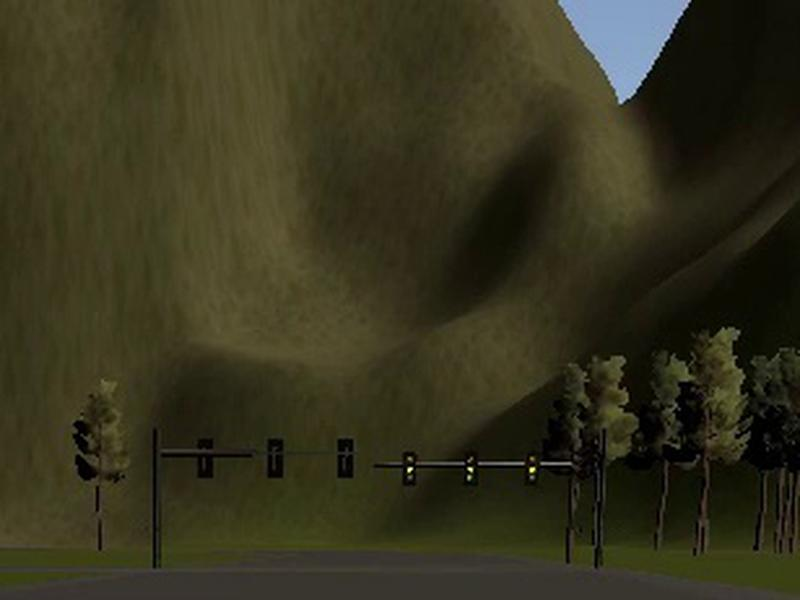Yellow: (524, 453, 539, 485), (402, 453, 415, 485), (465, 452, 477, 485)
